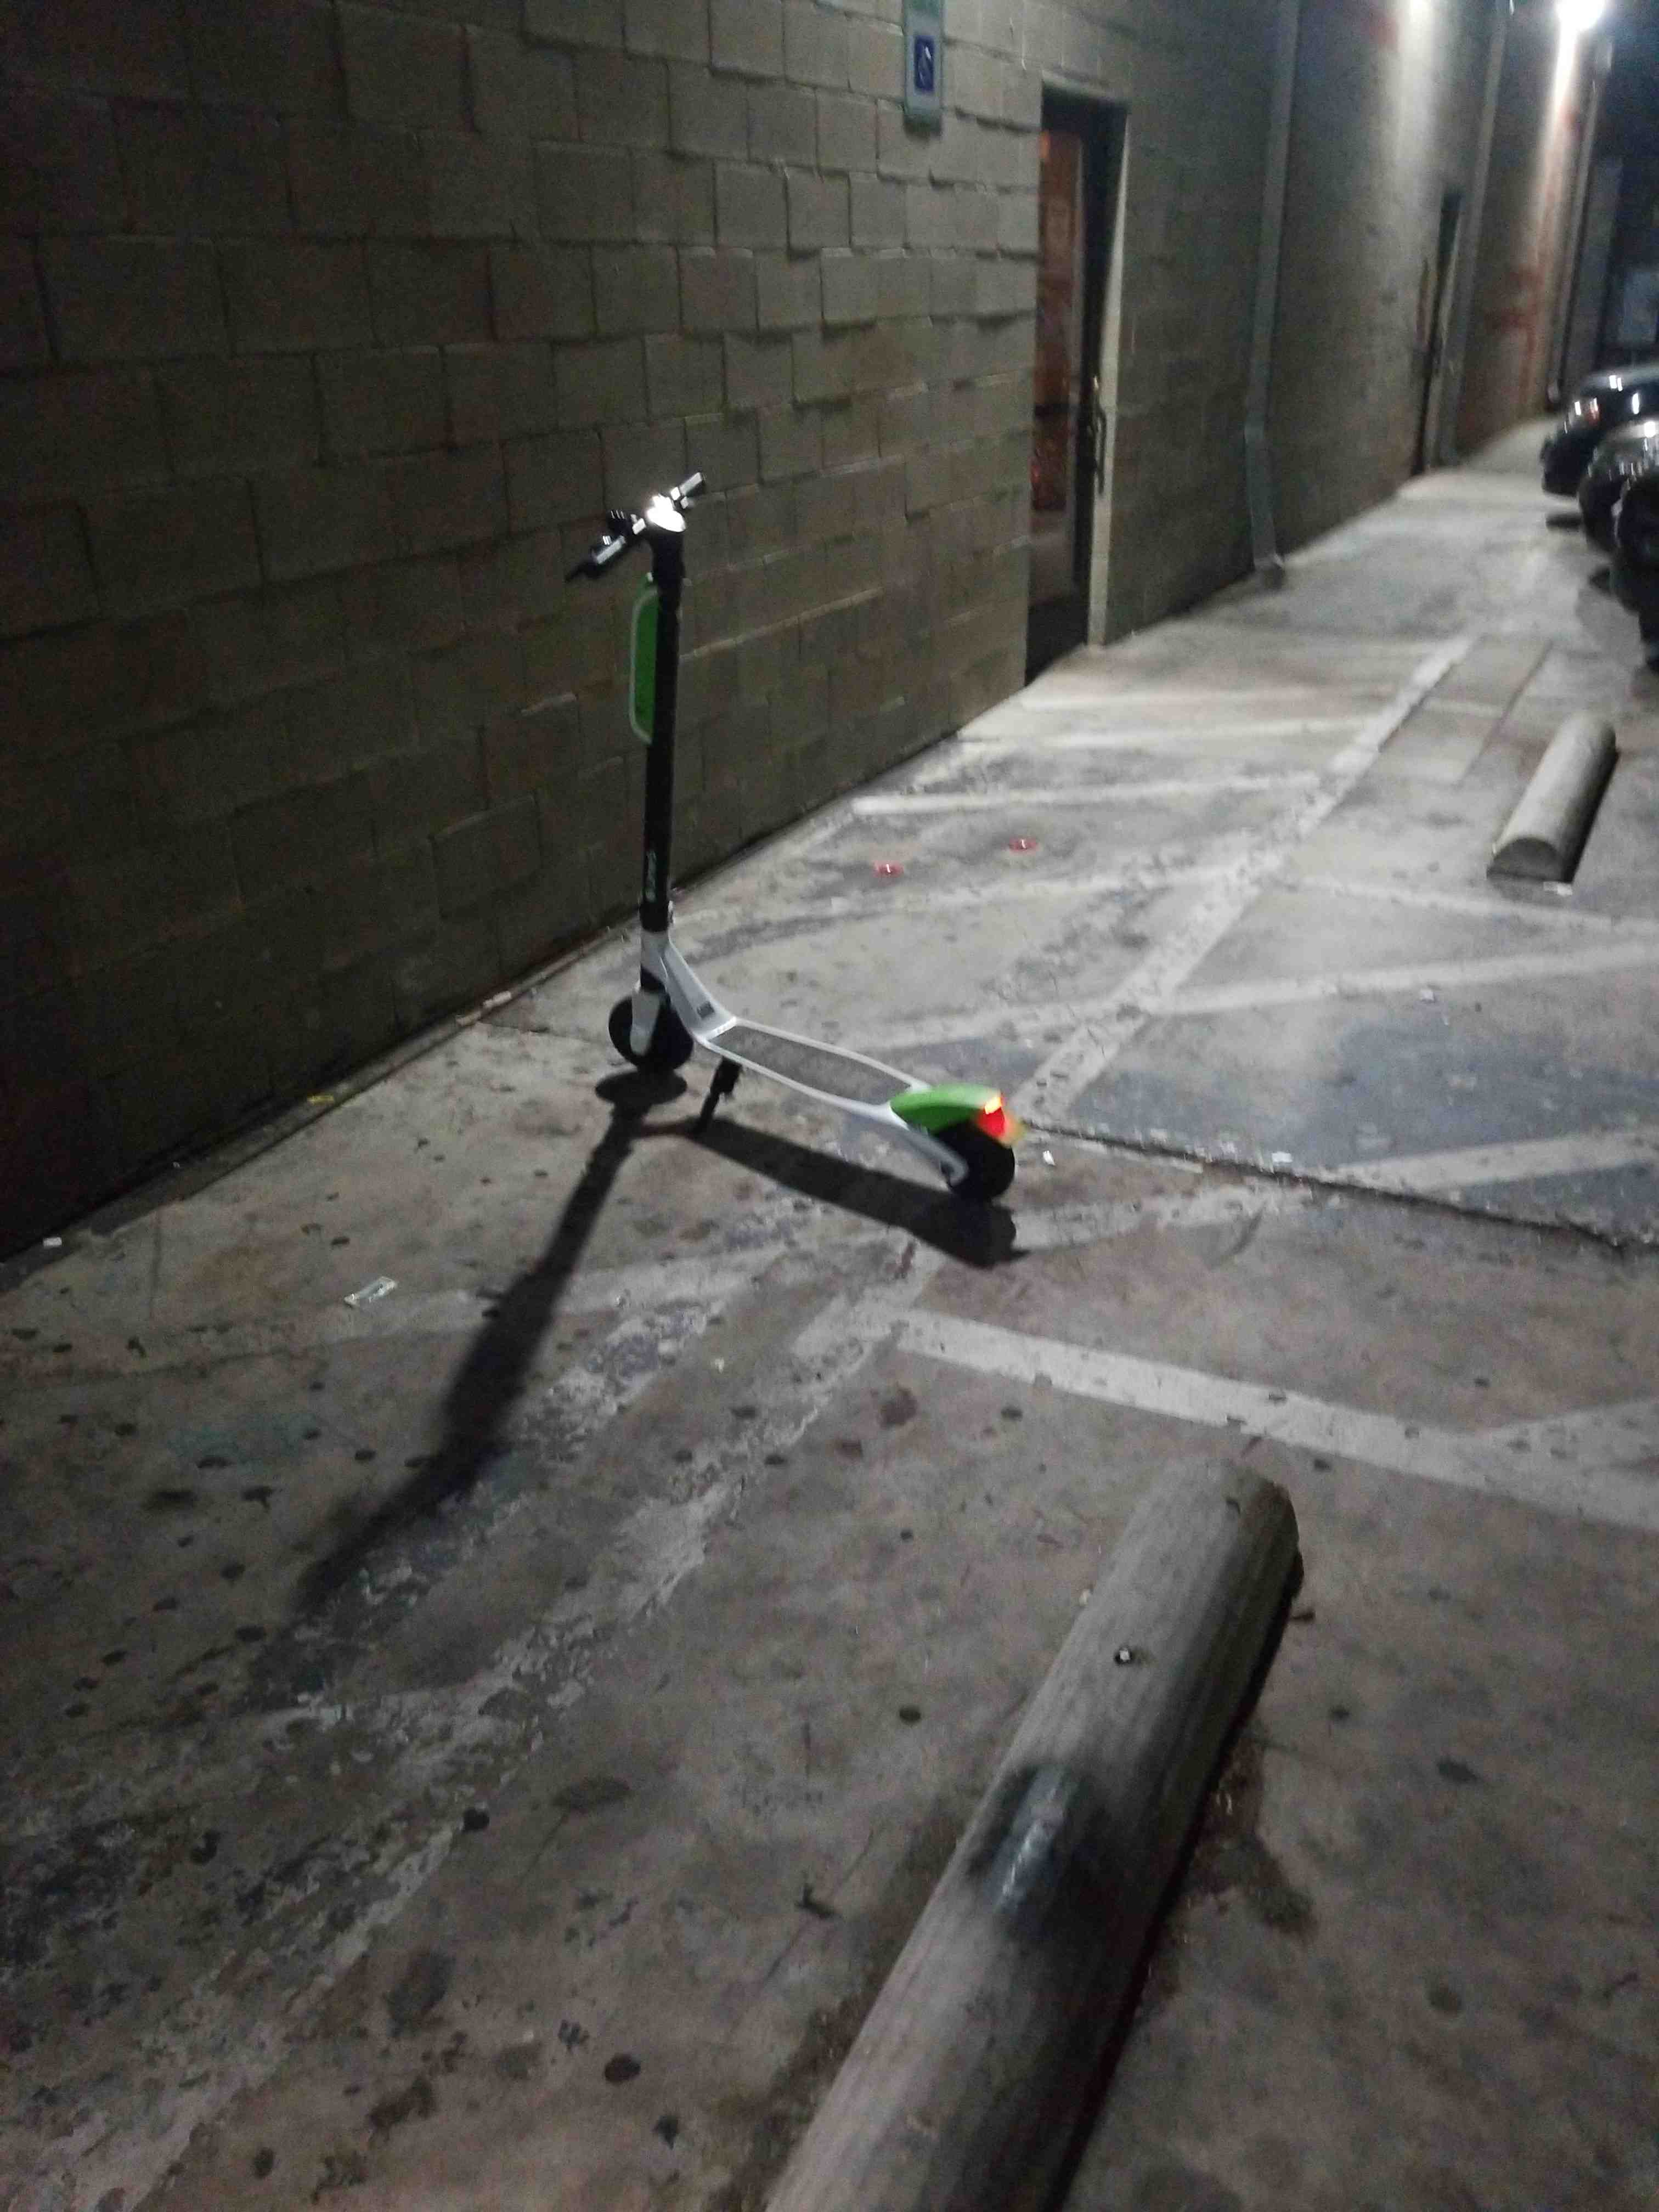scooter: (507, 441, 1012, 1289)
